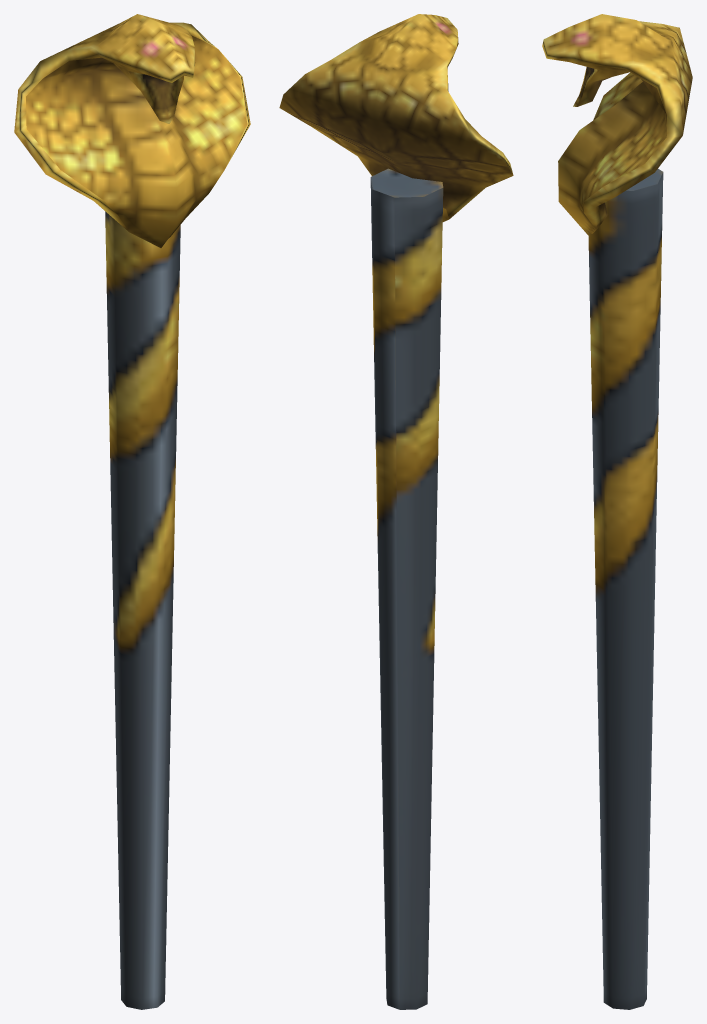
The model's file is VK_CursedStaff.fbx.
3 renders of one model, left to right at view 1: azimuth 30°, elevation 25°; view 2: azimuth 150°, elevation 25°; view 3: azimuth 270°, elevation 25°, orthographic.
Parts seen in each view (by area): view 1: E_CursedSorcerer_RebornWeapon; view 2: E_CursedSorcerer_RebornWeapon; view 3: E_CursedSorcerer_RebornWeapon.
Boxes of the visible parts, x1,y1,x2,y2 form: E_CursedSorcerer_RebornWeapon: (14,14,250,1009); E_CursedSorcerer_RebornWeapon: (279,14,513,1009); E_CursedSorcerer_RebornWeapon: (542,14,692,1009).
Bounding box in the file's own units: 7 × 28.97 × 4.01.
